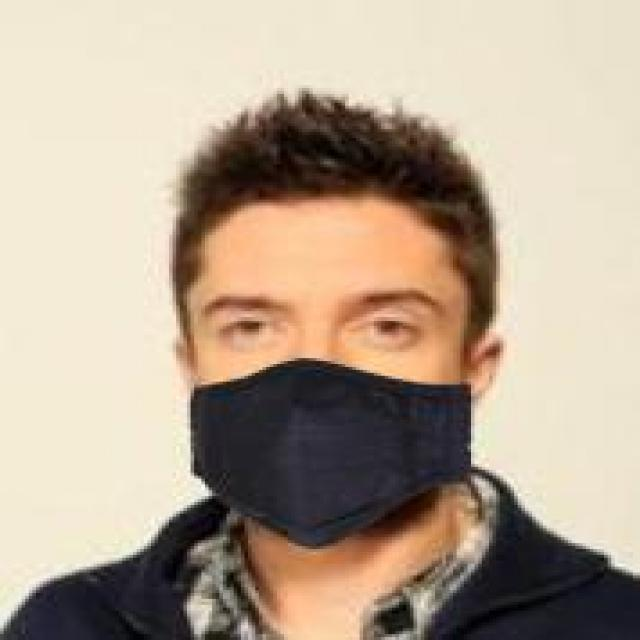mask: (119, 94, 561, 555)
